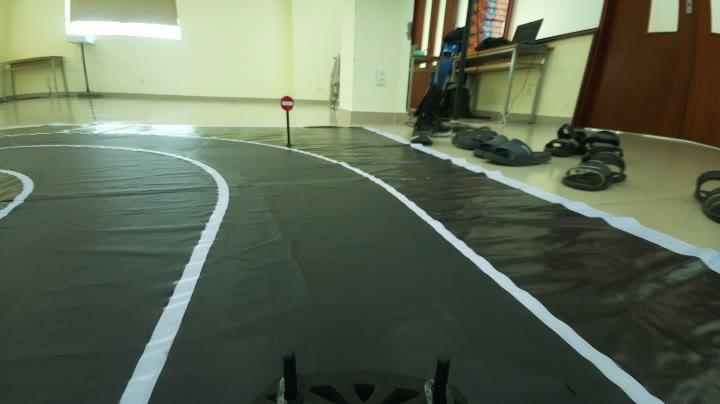no_entry: (276, 93, 295, 110)
